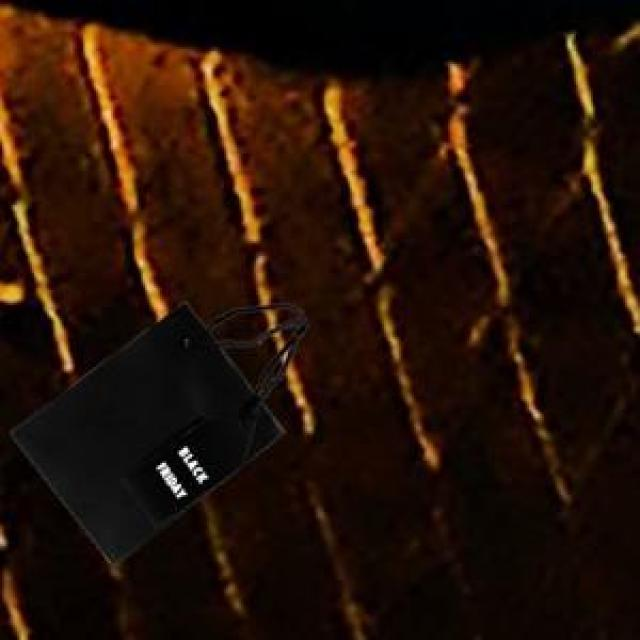paper: (9, 299, 303, 561)
